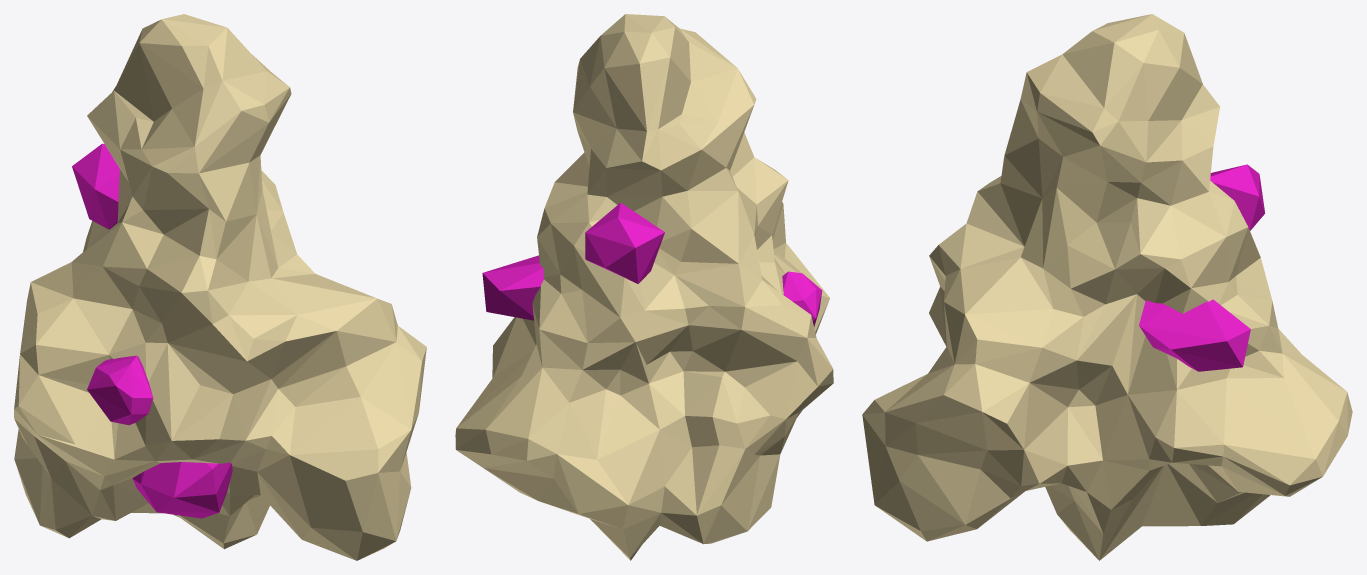
Rendered from CrystalOre (20).fbx.
3 renders of one model, left to right at view 1: azimuth 30°, elevation 25°; view 2: azimuth 150°, elevation 25°; view 3: azimuth 270°, elevation 25°, orthographic. The views are drawn at different scales.
Visible parts, largest first — view 1: Asteroid240; view 2: Asteroid240; view 3: Asteroid240.
Part boxes in pixels (x1,y1,x2,y2): Asteroid240: (14,14,426,560); Asteroid240: (455,14,833,560); Asteroid240: (862,14,1352,560).
Size of the model in its own units: 306 by 438 by 374.
